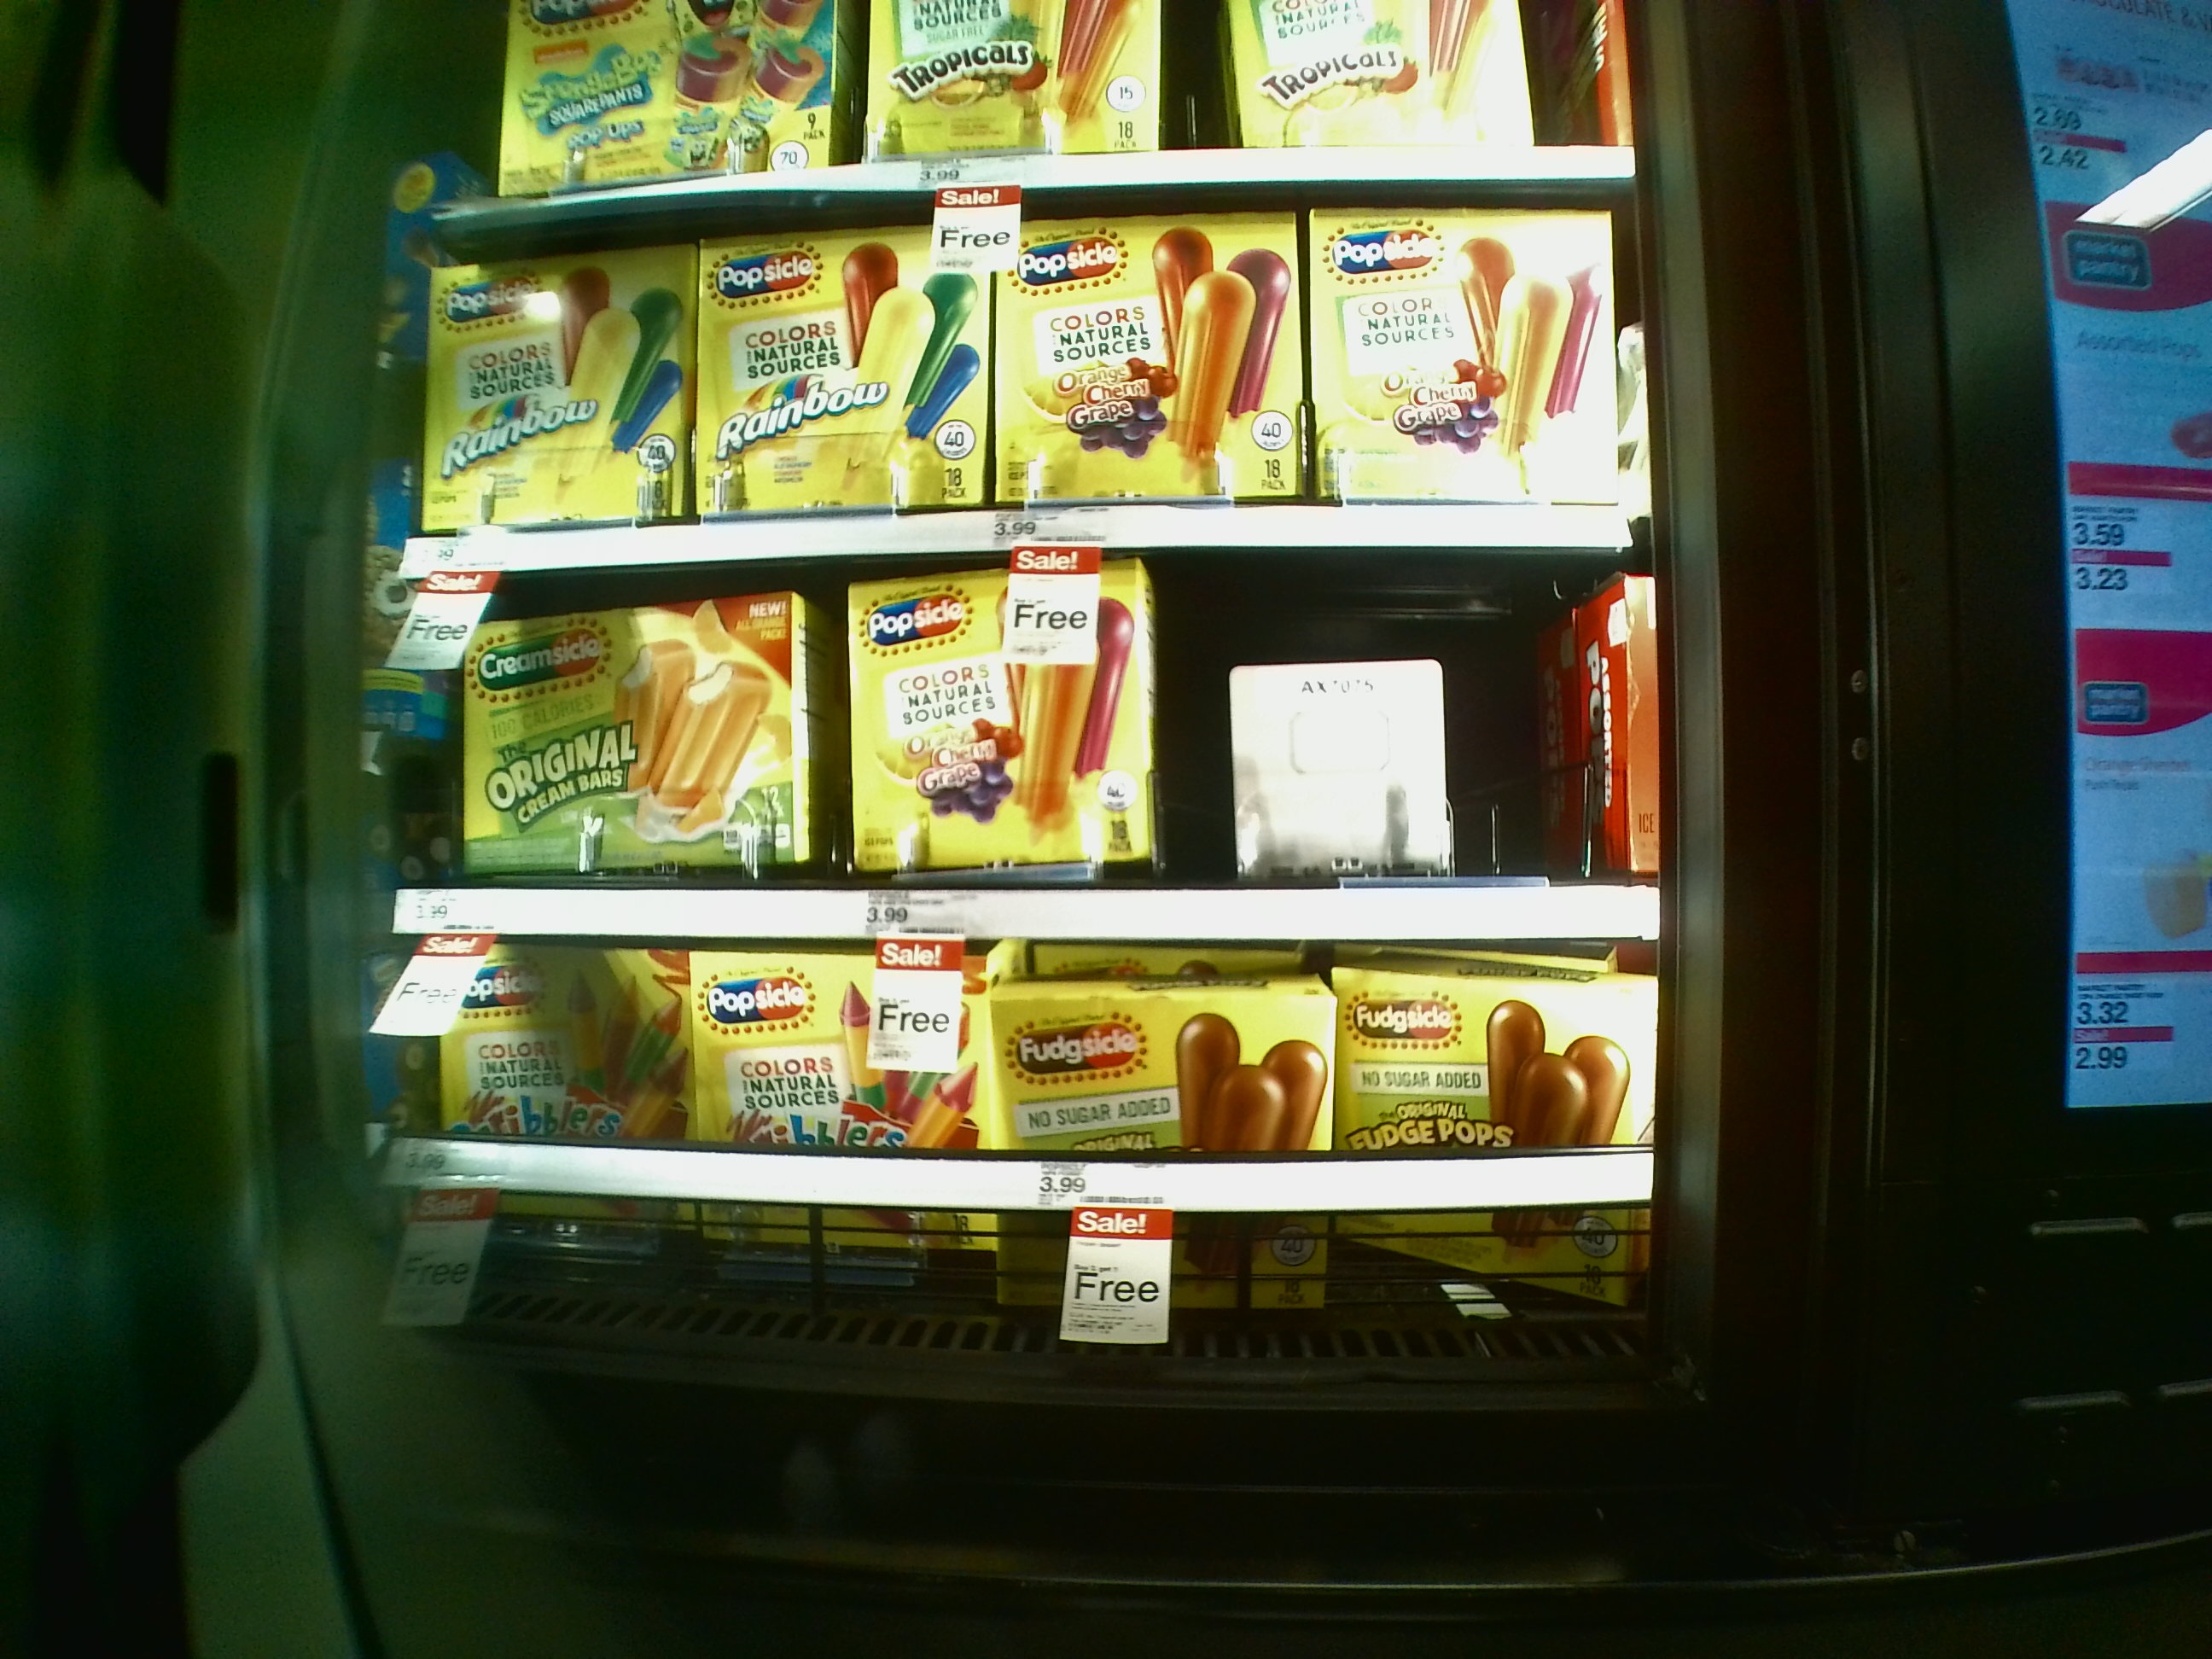shelf: (401, 941, 1651, 1364), (413, 570, 1655, 960), (411, 188, 1629, 552)
